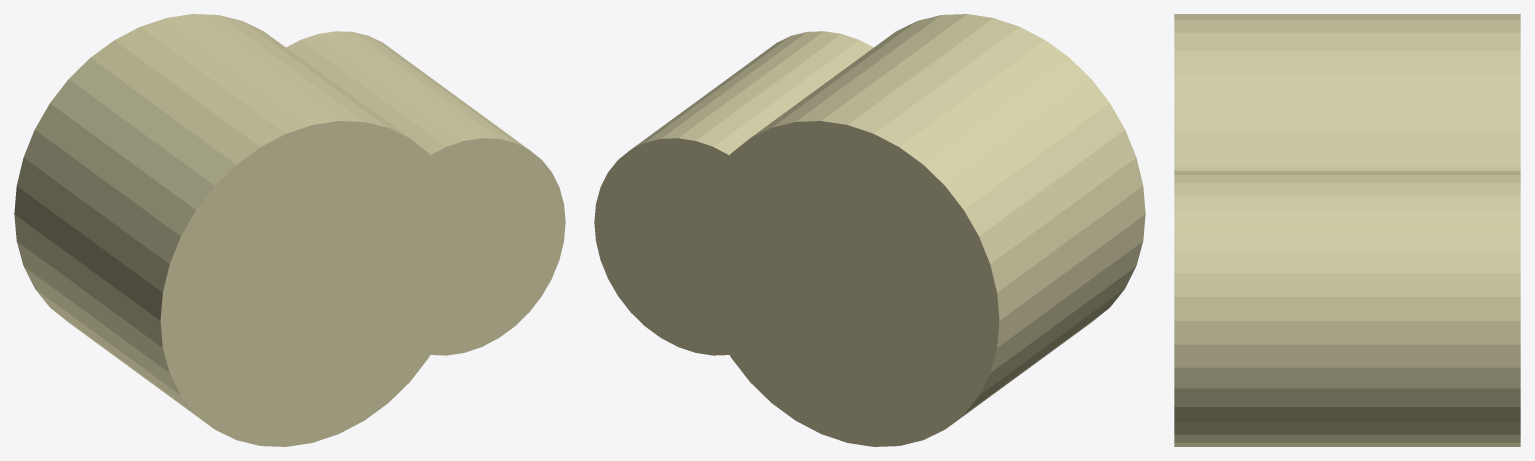
File: union3d.glb
3 views of the same model, side by side, from view 1: azimuth 30°, elevation 25°; view 2: azimuth 150°, elevation 25°; view 3: azimuth 270°, elevation 25° (orthographic). The views are drawn at different scales.
Parts seen in each view (by area): view 1: world; view 2: world; view 3: world.
Part boxes in pixels (left/top/right/bottom): world: left=14, top=14, right=565, bottom=446; world: left=594, top=14, right=1145, bottom=446; world: left=1174, top=14, right=1520, bottom=446.
Bounding box in the file's own units: 16 × 12 × 10.
